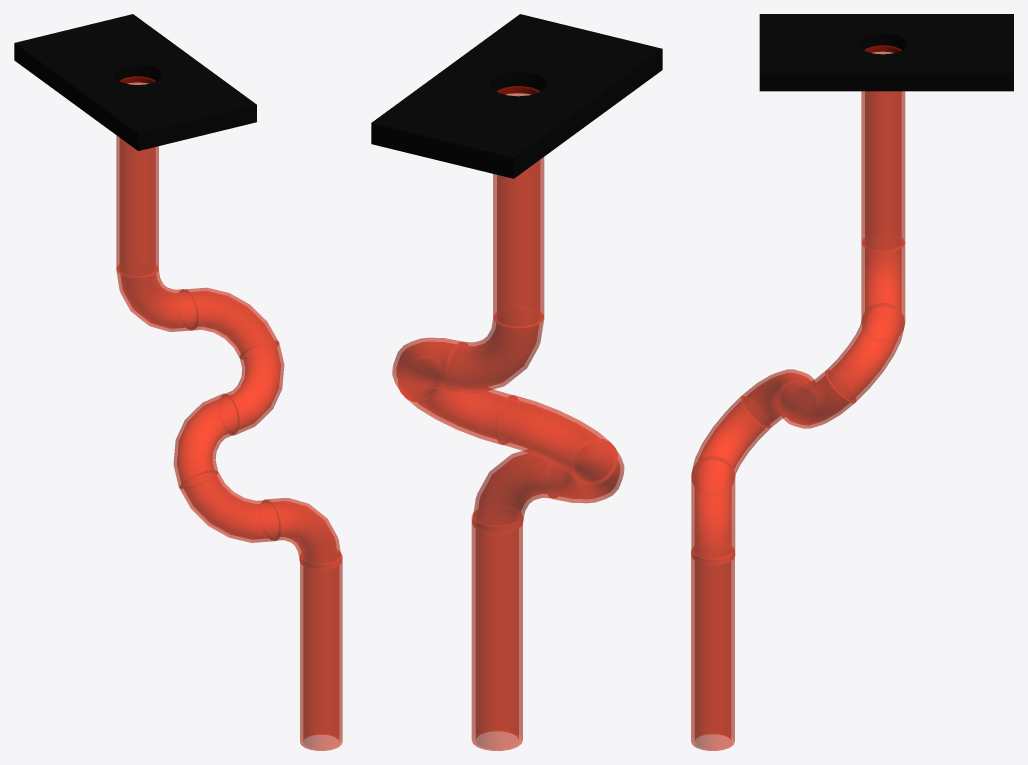
The model's file is StartPlataformTubeCurve.FBX.
The picture shows the model from 3 angles, left to right: view 1: azimuth 30°, elevation 25°; view 2: azimuth 150°, elevation 25°; view 3: azimuth 270°, elevation 25°; orthographic projection. The views are drawn at different scales.
Visible parts, largest first — view 1: Box001, Tube008, Tube002, Tube005, Tube003, Tube006, Tube004, Tube001, Tube010; view 2: Box001, Tube008, Tube002, Tube006, Tube001, Tube004, Tube010, Tube003, Tube005; view 3: Box001, Tube008, Tube002, Tube010, Tube001, Tube003, Tube005, Tube004, Tube006.
Part boxes in pixels (x1,y1,x2,y2): Box001: [14, 14, 256, 150]; Tube008: [300, 550, 342, 750]; Tube002: [116, 76, 158, 277]; Tube005: [179, 471, 281, 542]; Tube003: [179, 287, 278, 359]; Tube006: [173, 393, 239, 488]; Tube004: [220, 340, 284, 435]; Tube001: [116, 261, 198, 331]; Tube010: [261, 498, 341, 569]; Box001: [371, 14, 662, 178]; Tube008: [471, 510, 522, 750]; Tube002: [493, 86, 544, 327]; Tube006: [495, 395, 617, 485]; Tube001: [445, 308, 544, 393]; Tube004: [398, 359, 518, 445]; Tube010: [472, 449, 567, 533]; Tube003: [392, 337, 468, 402]; Tube005: [545, 439, 624, 503]; Box001: [759, 14, 1013, 91]; Tube008: [691, 546, 734, 750]; Tube002: [861, 45, 905, 251]; Tube010: [691, 456, 735, 564]; Tube001: [861, 235, 905, 339]; Tube003: [825, 303, 904, 402]; Tube005: [691, 396, 770, 491]; Tube004: [776, 370, 856, 428]; Tube006: [741, 369, 816, 428].
Bounding box in the file's own units: 66.16 × 223 × 101.
